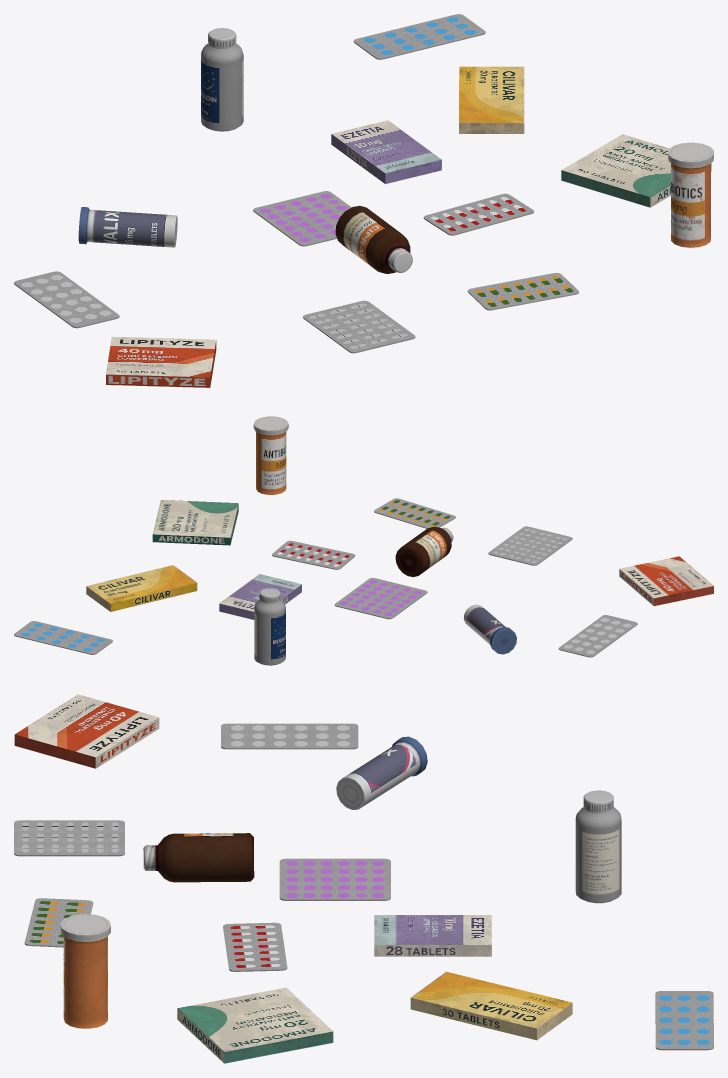
File: HH_Drug_Packaging_Kit_03.fbx
3 views of the same model, one above another, from view 1: azimuth 30°, elevation 25°; view 2: azimuth 150°, elevation 25°; view 3: azimuth 270°, elevation 25° (orthographic). The views are drawn at different scales.
Parts seen in each view (by area): view 1: HH_Drug_Packaging_Kit_03_LOD0; view 2: HH_Drug_Packaging_Kit_03_LOD0; view 3: HH_Drug_Packaging_Kit_03_LOD0.
Boxes of the visible parts, left/top/right/bottom form: HH_Drug_Packaging_Kit_03_LOD0: left=14, top=14, right=713, bottom=387; HH_Drug_Packaging_Kit_03_LOD0: left=14, top=416, right=713, bottom=665; HH_Drug_Packaging_Kit_03_LOD0: left=14, top=694, right=713, bottom=1063.
Size of what is drawn, in the model's own units: 116 by 15 by 96.18.
